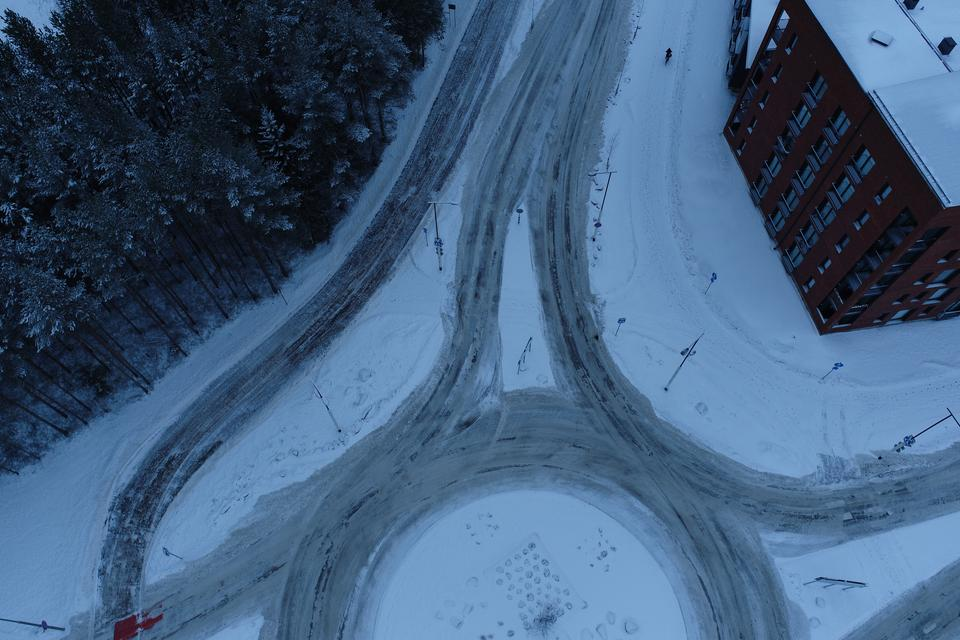roundabout: (191, 357, 850, 640)
